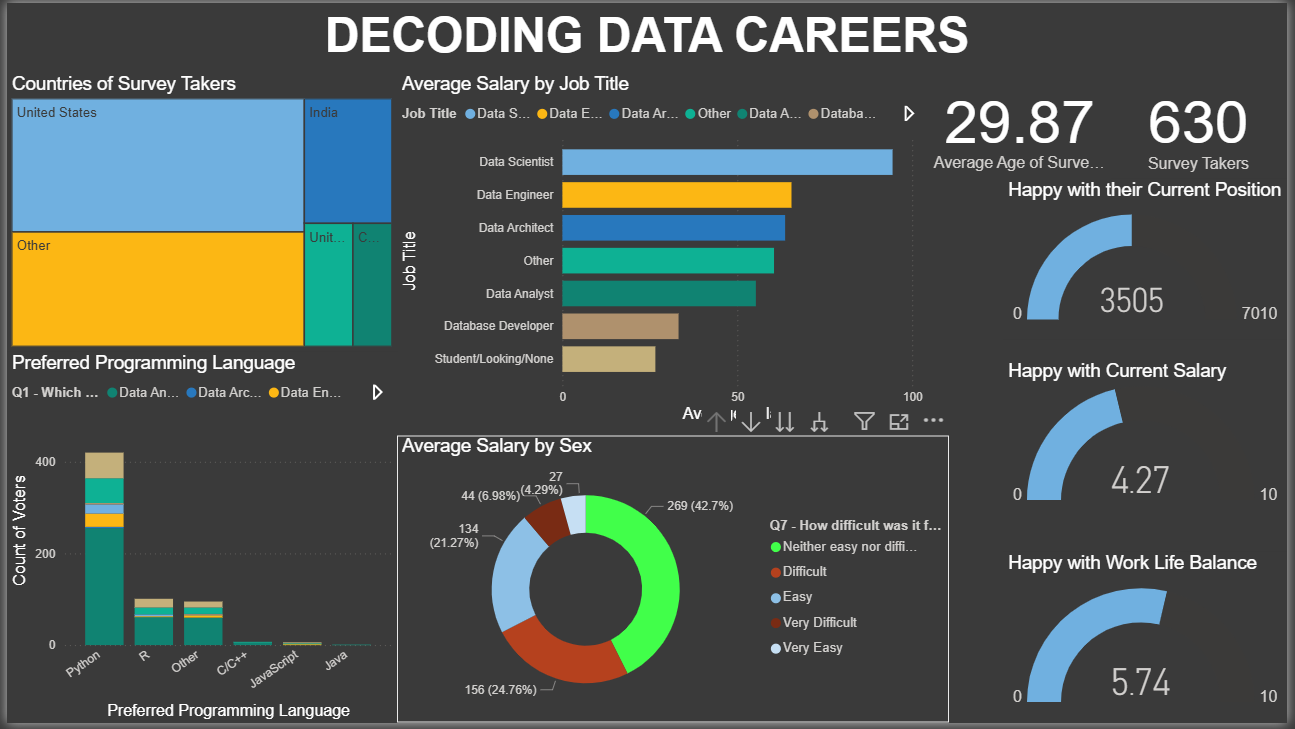

The page's visual inventory and layout, read from the dashboard file:
{"tool":"powerbi","page":{"name":"Page 1","canvas":[1280,720],"ordinal":0},"visuals":[{"type":"card","fields":{"Values":["Count(Data Professional Survey.Unique ID)"]},"box":[1104.3,71.4,175.7,104.3],"z":0},{"type":"textbox","box":[0,0,1280,70],"z":2},{"type":"card","fields":{"Values":["Avg(Data Professional Survey.Q10 - Current Age)"]},"box":[921.4,70,182.9,105.7],"z":3},{"type":"barChart","title":"Average Salary by Job Title","fields":{"Y":["Avg(Data Professional Survey.Average Salary)"],"Category":["Data Professional Survey.Q1 - Which Title Best Fits your Current Role?.1"],"Series":["Data Professional Survey.Q1 - Which Title Best Fits your Current Role?.1"]},"box":[390,70,531.4,354.3],"z":4},{"type":"columnChart","title":"Preferred Programming Language","fields":{"Category":["Data Professional Survey.Q5 - Favorite Programming Language.1"],"Y":["CountNonNull(Data Professional Survey.Unique ID)"],"Series":["Data Professional Survey.Q1 - Which Title Best Fits your Current Role?.1"]},"box":[0,348.6,390,372.9],"z":5},{"type":"treemap","title":"Countries of Survey Takers","fields":{"Values":["CountNonNull(Data Professional Survey.Q11 - Which Country do you live in?.1)"],"Group":["Data Professional Survey.Q11 - Which Country do you live in?.1"]},"box":[0,70,390,278.6],"z":6},{"type":"gauge","title":"Happy with Work Life Balance","fields":{"Y":["Avg(Data Professional Survey.Q6 - How Happy are you in your Current Position with the following? (Work/Life Balance))"],"MinValue":["Min(Data Professional Survey.Q6 - How Happy are you in your Current Position with the following? (Work/Life Balance))"],"MaxValue":["Max(Data Professional Survey.Q6 - How Happy are you in your Current Position with the following? (Work/Life Balance))1"]},"box":[995.7,548.6,284.3,171.4],"z":7},{"type":"gauge","title":"Happy with Current Salary","fields":{"Y":["Avg(Data Professional Survey.Q6 - How Happy are you in your Current Position with the following? (Salary))"],"MinValue":["Min(Data Professional Survey.Q6 - How Happy are you in your Current Position with the following? (Salary))"],"MaxValue":["Max(Data Professional Survey.Q6 - How Happy are you in your Current Position with the following? (Salary))"]},"box":[995.7,357.1,284.3,150],"z":8},{"type":"donutChart","title":"Average Salary by Sex","fields":{"Category":["Data Professional Survey.Q7 - How difficult was it for you to break into Data?","Data Professional Survey.Average Salary"],"Y":["CountNonNull(Data Professional Survey.Q9 - Male/Female?)"]},"box":[390,432.9,552.9,287.1],"z":10},{"type":"gauge","title":"Happy with their Current Position","fields":{"Y":["Sum(Data Professional Survey.Q6 - How Happy are you in your Current Position with the following? (Learning New Things))"]},"box":[995.7,175.7,284.3,160],"z":11}]}

Visuals, with their boxes in screenshot pixels (x1, y1, x2, y2), scaled from the page's 1280x720 canvas onto the 1295x729 screenshot:
card - Count(Data Professional Survey.Unique ID): [left=1117, top=72, right=1294, bottom=178]
textbox: [left=0, top=0, right=1294, bottom=71]
card - Avg(Data Professional Survey.Q10 - Current Age): [left=932, top=71, right=1117, bottom=178]
"Average Salary by Job Title" barChart: [left=395, top=71, right=932, bottom=430]
"Preferred Programming Language" columnChart: [left=0, top=353, right=395, bottom=728]
"Countries of Survey Takers" treemap: [left=0, top=71, right=395, bottom=353]
"Happy with Work Life Balance" gauge: [left=1007, top=555, right=1294, bottom=728]
"Happy with Current Salary" gauge: [left=1007, top=362, right=1294, bottom=513]
"Average Salary by Sex" donutChart: [left=395, top=438, right=954, bottom=728]
"Happy with their Current Position" gauge: [left=1007, top=178, right=1294, bottom=340]
